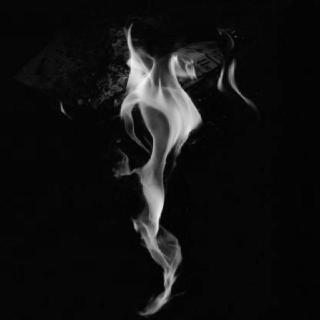Fire: (82, 16, 264, 312)
